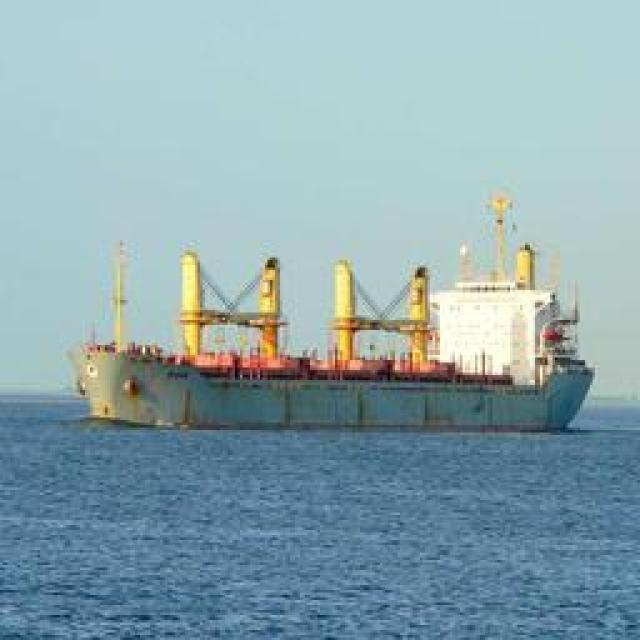CIV_Ship: (68, 198, 602, 432)
